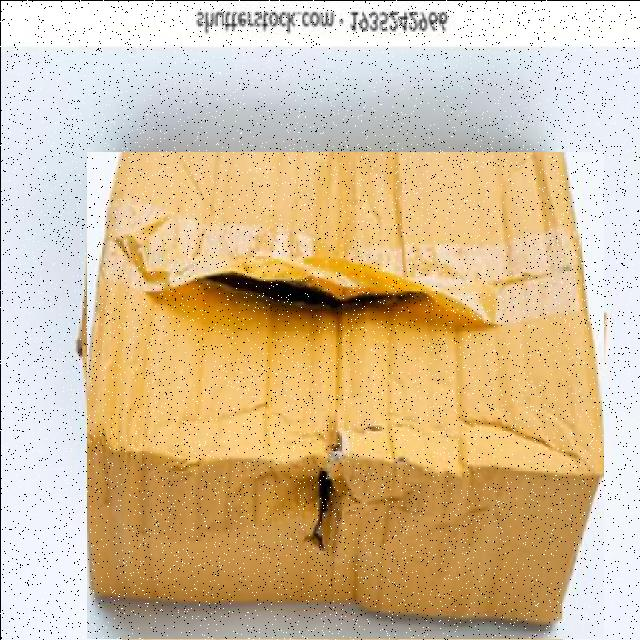defect: (86, 151, 603, 638)
